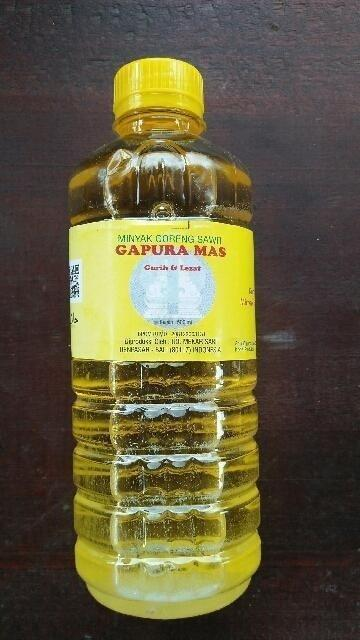bottle-plastic: (59, 53, 270, 623)
